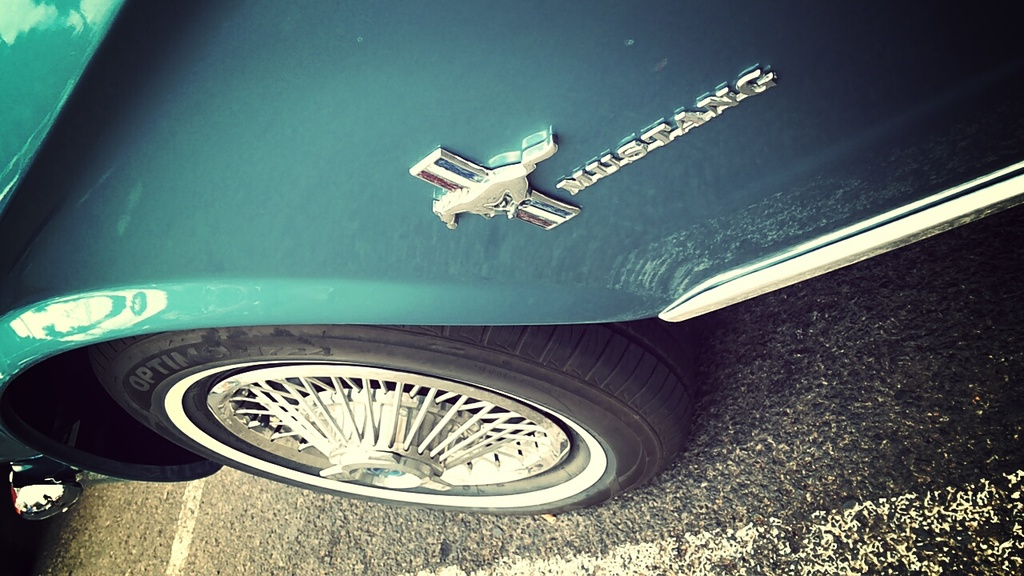Car: (0, 45, 1024, 510)
